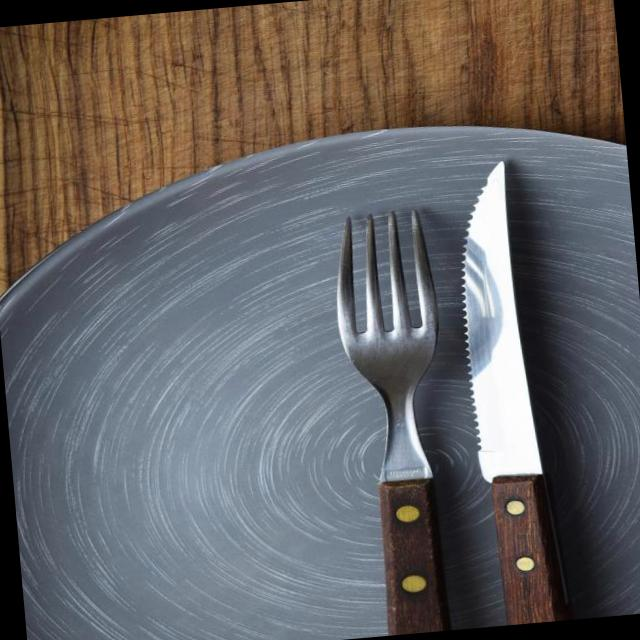Knife: (463, 161, 569, 624)
